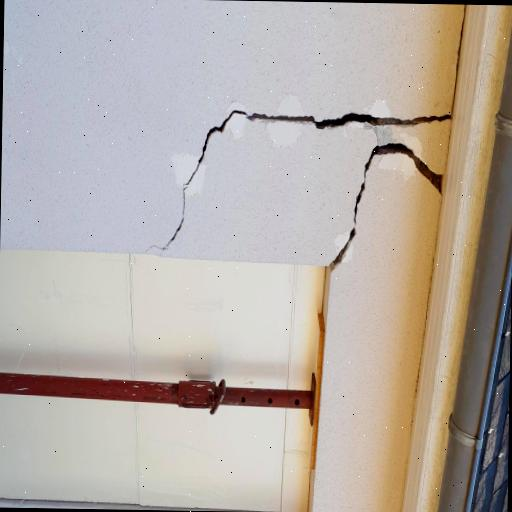spalling: (162, 102, 447, 241), (325, 141, 442, 280)
